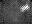person: (21, 1, 30, 9)
